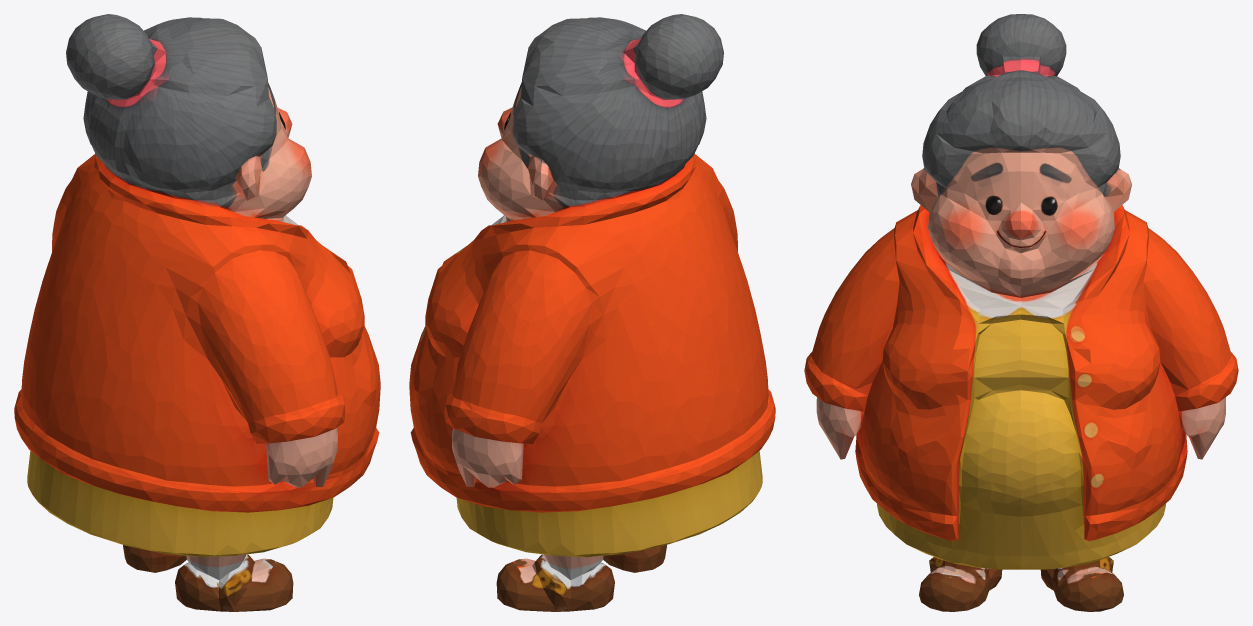
3 renders of one model, left to right at view 1: azimuth 30°, elevation 25°; view 2: azimuth 150°, elevation 25°; view 3: azimuth 270°, elevation 25°, orthographic. The views are drawn at different scales.
Parts seen in each view (by area): view 1: tripo_part_9, tripo_part_7, tripo_part_1, tripo_part_5, tripo_part_4, tripo_part_8, tripo_part_2, tripo_part_10, tripo_part_0, tripo_part_12, tripo_part_3; view 2: tripo_part_9, tripo_part_7, tripo_part_13, tripo_part_5, tripo_part_4, tripo_part_8, tripo_part_12, tripo_part_10, tripo_part_14, tripo_part_2, tripo_part_11; view 3: tripo_part_9, tripo_part_7, tripo_part_6, tripo_part_5, tripo_part_13, tripo_part_1, tripo_part_10, tripo_part_8, tripo_part_4, tripo_part_2, tripo_part_12, tripo_part_14 (+1 smaller).
Boxes of the visible parts, <box> form: tripo_part_9: <box>21,154,380,486</box>; tripo_part_7: <box>83,17,311,221</box>; tripo_part_1: <box>198,250,345,443</box>; tripo_part_5: <box>27,451,333,557</box>; tripo_part_4: <box>14,389,379,512</box>; tripo_part_8: <box>66,14,166,99</box>; tripo_part_2: <box>175,554,293,611</box>; tripo_part_10: <box>94,156,308,238</box>; tripo_part_0: <box>266,428,337,487</box>; tripo_part_12: <box>123,545,186,572</box>; tripo_part_3: <box>186,554,246,580</box>; tripo_part_9: <box>409,154,768,486</box>; tripo_part_7: <box>478,17,706,221</box>; tripo_part_13: <box>444,250,603,443</box>; tripo_part_5: <box>456,451,762,557</box>; tripo_part_4: <box>410,389,775,512</box>; tripo_part_8: <box>604,14,723,99</box>; tripo_part_12: <box>496,554,614,611</box>; tripo_part_10: <box>481,156,695,238</box>; tripo_part_14: <box>452,428,523,487</box>; tripo_part_2: <box>603,545,666,572</box>; tripo_part_11: <box>543,554,603,580</box>; tripo_part_9: <box>855,210,1185,540</box>; tripo_part_7: <box>911,70,1131,297</box>; tripo_part_6: <box>959,360,1081,516</box>; tripo_part_5: <box>877,503,1165,569</box>; tripo_part_13: <box>1141,228,1238,411</box>; tripo_part_1: <box>804,228,899,411</box>; tripo_part_10: <box>913,205,1129,349</box>; tripo_part_8: <box>976,14,1066,77</box>; tripo_part_4: <box>855,433,1187,540</box>; tripo_part_2: <box>919,557,1002,611</box>; tripo_part_12: <box>1040,557,1123,611</box>; tripo_part_14: <box>1178,397,1225,459</box>.
Size of the model in its own units: 0.4945 by 0.9005 by 0.6646.
15 materials, 15 textured.
